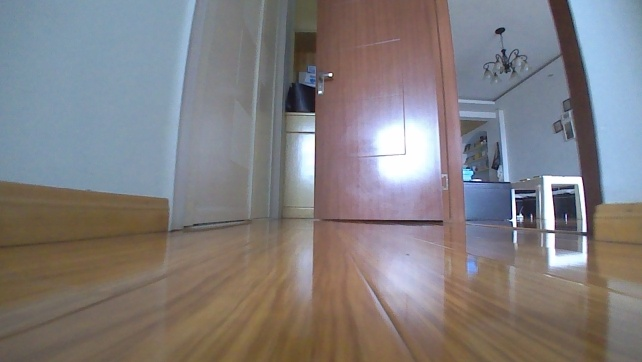door_anno: (309, 0, 459, 223)
